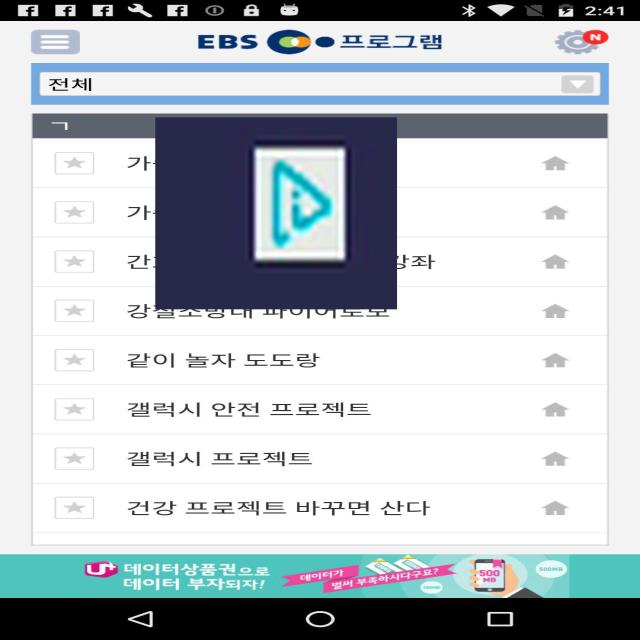sneaking: (155, 118, 397, 310)
